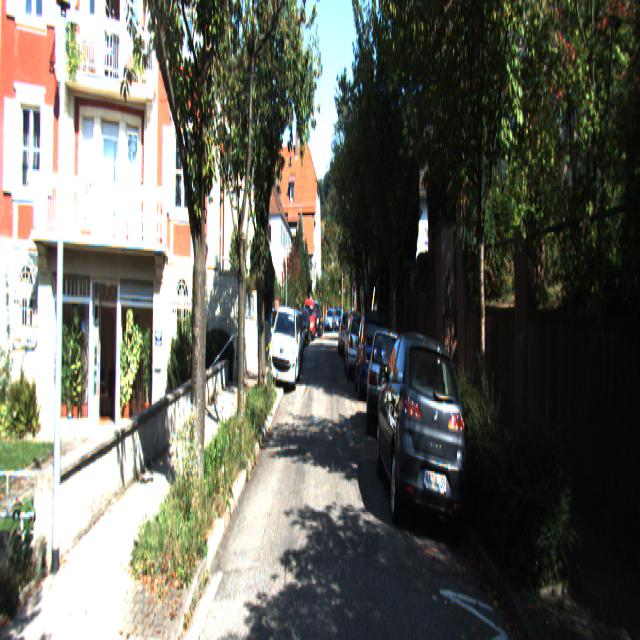Car: (374, 324, 471, 563), (365, 322, 406, 450), (354, 308, 388, 405), (269, 304, 302, 394), (344, 309, 372, 384), (337, 307, 355, 357), (302, 298, 315, 342)
